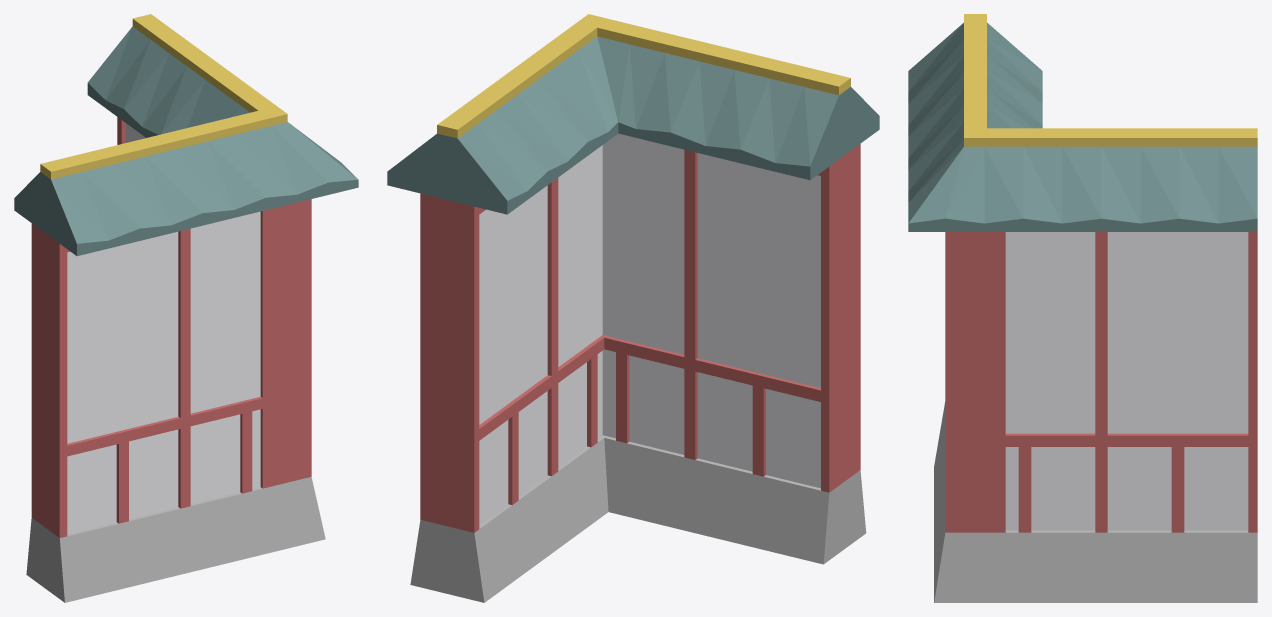
Rendered from wall_4.fbx.
3 renders of one model, left to right at view 1: azimuth 30°, elevation 25°; view 2: azimuth 150°, elevation 25°; view 3: azimuth 270°, elevation 25°, orthographic. The views are drawn at different scales.
Visible parts, largest first — view 1: Asian_Prop_Building_Fence_Wall_Framed_Corner_04.003, Asian_Prop_Building_Fence_Wall_Framed_Corner_04.004, Asian_Prop_Building_Fence_Wall_Framed_Corner_04.001, Asian_Prop_Building_Fence_Wall_Framed_Corner_04.002, Asian_Prop_Building_Fence_Wall_Framed_Corner_04; view 2: Asian_Prop_Building_Fence_Wall_Framed_Corner_04.003, Asian_Prop_Building_Fence_Wall_Framed_Corner_04.001, Asian_Prop_Building_Fence_Wall_Framed_Corner_04.004, Asian_Prop_Building_Fence_Wall_Framed_Corner_04.002, Asian_Prop_Building_Fence_Wall_Framed_Corner_04; view 3: Asian_Prop_Building_Fence_Wall_Framed_Corner_04.003, Asian_Prop_Building_Fence_Wall_Framed_Corner_04.004, Asian_Prop_Building_Fence_Wall_Framed_Corner_04.001, Asian_Prop_Building_Fence_Wall_Framed_Corner_04.002, Asian_Prop_Building_Fence_Wall_Framed_Corner_04.
Boxes of the visible parts, <box> form: Asian_Prop_Building_Fence_Wall_Framed_Corner_04.003: <box>67,123,260,533</box>; Asian_Prop_Building_Fence_Wall_Framed_Corner_04.004: <box>14,26,358,256</box>; Asian_Prop_Building_Fence_Wall_Framed_Corner_04.001: <box>31,117,311,537</box>; Asian_Prop_Building_Fence_Wall_Framed_Corner_04.002: <box>26,477,325,602</box>; Asian_Prop_Building_Fence_Wall_Framed_Corner_04: <box>40,14,287,179</box>; Asian_Prop_Building_Fence_Wall_Framed_Corner_04.003: <box>479,133,820,524</box>; Asian_Prop_Building_Fence_Wall_Framed_Corner_04.001: <box>420,144,860,532</box>; Asian_Prop_Building_Fence_Wall_Framed_Corner_04.004: <box>387,36,879,214</box>; Asian_Prop_Building_Fence_Wall_Framed_Corner_04.002: <box>410,435,866,602</box>; Asian_Prop_Building_Fence_Wall_Framed_Corner_04: <box>437,14,850,138</box>; Asian_Prop_Building_Fence_Wall_Framed_Corner_04.003: <box>1005,232,1248,530</box>; Asian_Prop_Building_Fence_Wall_Framed_Corner_04.004: <box>908,22,1257,231</box>; Asian_Prop_Building_Fence_Wall_Framed_Corner_04.001: <box>945,232,1257,532</box>; Asian_Prop_Building_Fence_Wall_Framed_Corner_04.002: <box>934,402,1257,602</box>; Asian_Prop_Building_Fence_Wall_Framed_Corner_04: <box>964,14,1257,146</box>.
Bounding box in the file's own units: 289 × 413 × 289.
